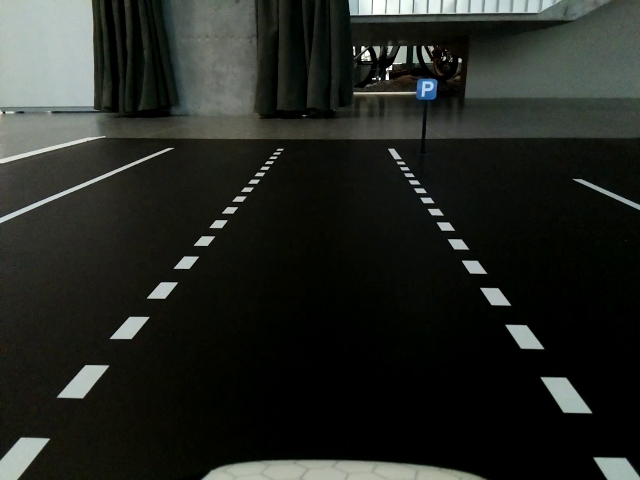park: (416, 79, 436, 100)
